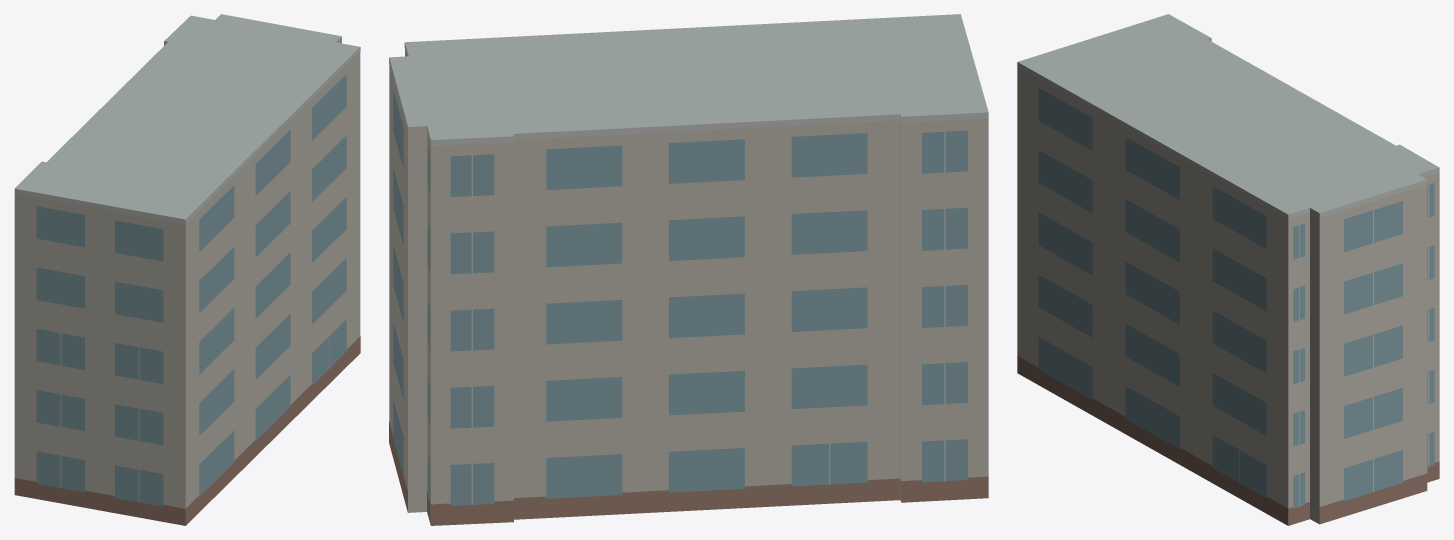
Rendered from survey-upis-32604655.glb.
3 renders of one model, left to right at view 1: azimuth 30°, elevation 25°; view 2: azimuth 150°, elevation 25°; view 3: azimuth 270°, elevation 25°, orthographic. The views are drawn at different scales.
Visible parts, largest first — view 1: survey-upis-32604655.tmp; view 2: survey-upis-32604655.tmp; view 3: survey-upis-32604655.tmp.
Boxes of the visible parts, x1,y1,x2,y2 form: survey-upis-32604655.tmp: (14,14,360,525); survey-upis-32604655.tmp: (389,14,988,525); survey-upis-32604655.tmp: (1017,14,1439,525).
Bounding box in the file's own units: 21.02 × 15.2 × 18.69.
